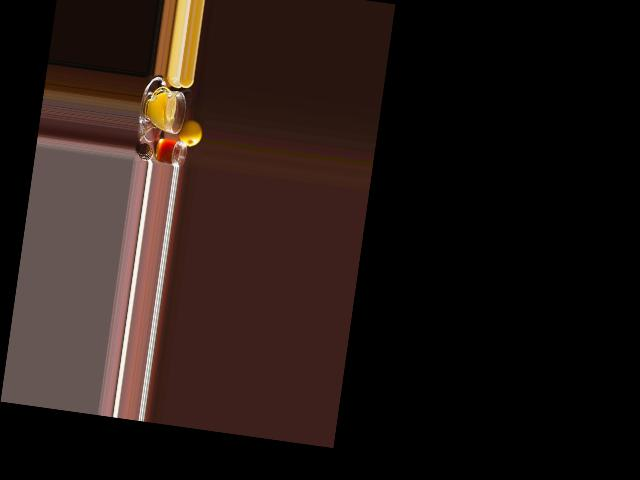lemon: (176, 115, 204, 149)
